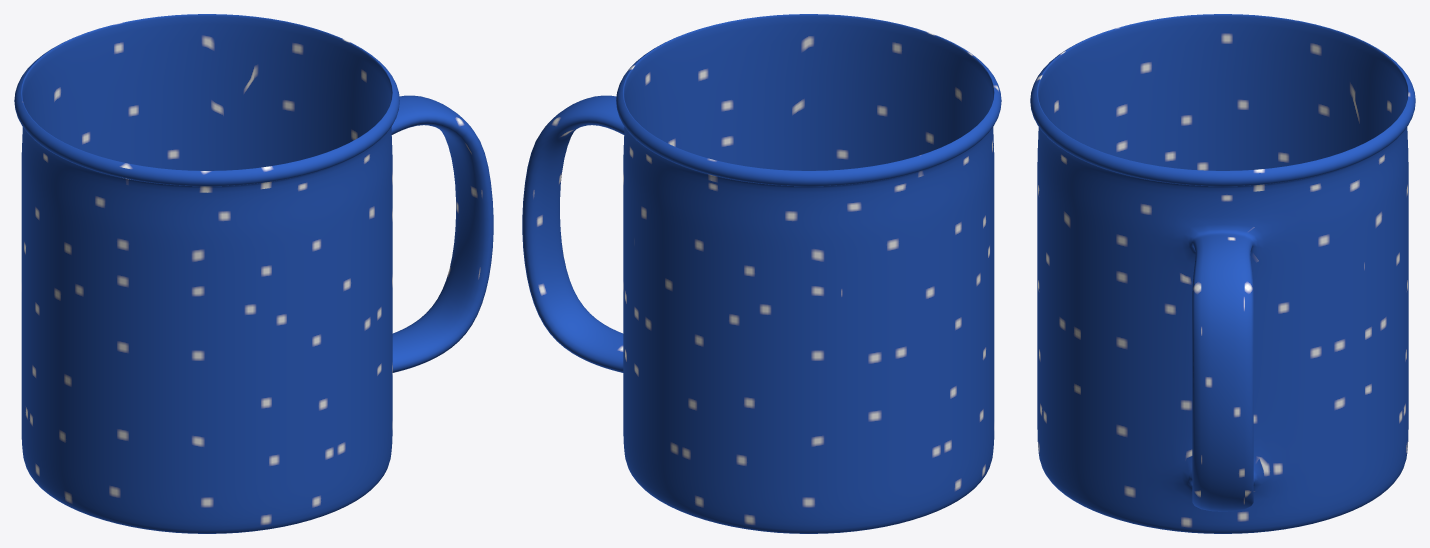
File: Mug.fbx
3 views of the same model, side by side, from view 1: azimuth 30°, elevation 25°; view 2: azimuth 150°, elevation 25°; view 3: azimuth 270°, elevation 25° (orthographic).
Visible parts, largest first — view 1: Mug; view 2: Mug; view 3: Mug.
Boxes of the visible parts, x1,y1,x2,y2 form: Mug: (14,14,493,533); Mug: (522,14,1001,533); Mug: (1030,14,1415,533).
Size of the model in its own units: 13.55 by 10.68 by 10.18.
